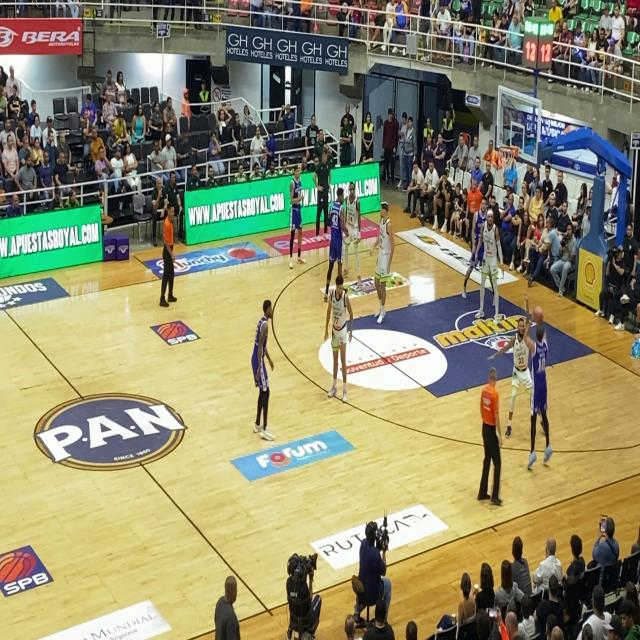Ball: (534, 304, 544, 322)
referee: (480, 367, 502, 484), (163, 205, 176, 303)
team1: (374, 201, 390, 325), (331, 275, 349, 382), (348, 180, 362, 280), (485, 214, 499, 304), (512, 321, 523, 391)
team2: (254, 298, 272, 438), (331, 189, 347, 275), (290, 162, 303, 260)
ubasket: (498, 144, 518, 171)
